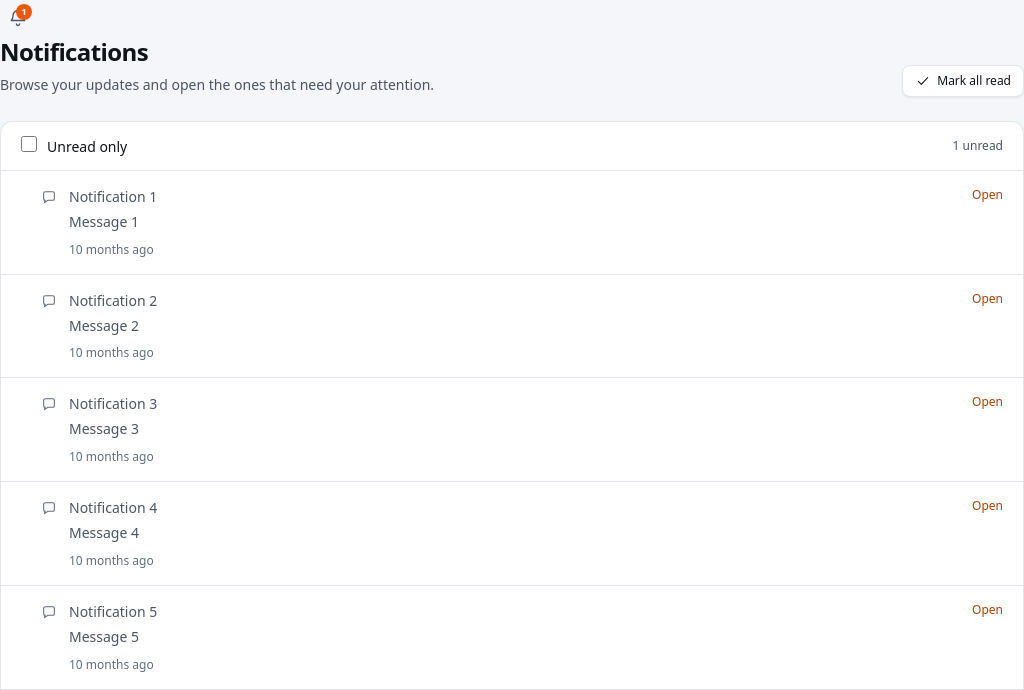
Test: notifications inbox › refreshes the unread filter and bell count after reading one item
Expected: the button named "Notifications, 1 unread" is shown, [0,0,36,36]
Click the checkbox labelled "Unread only". click: x=29, y=144
box: [21,136,37,152]
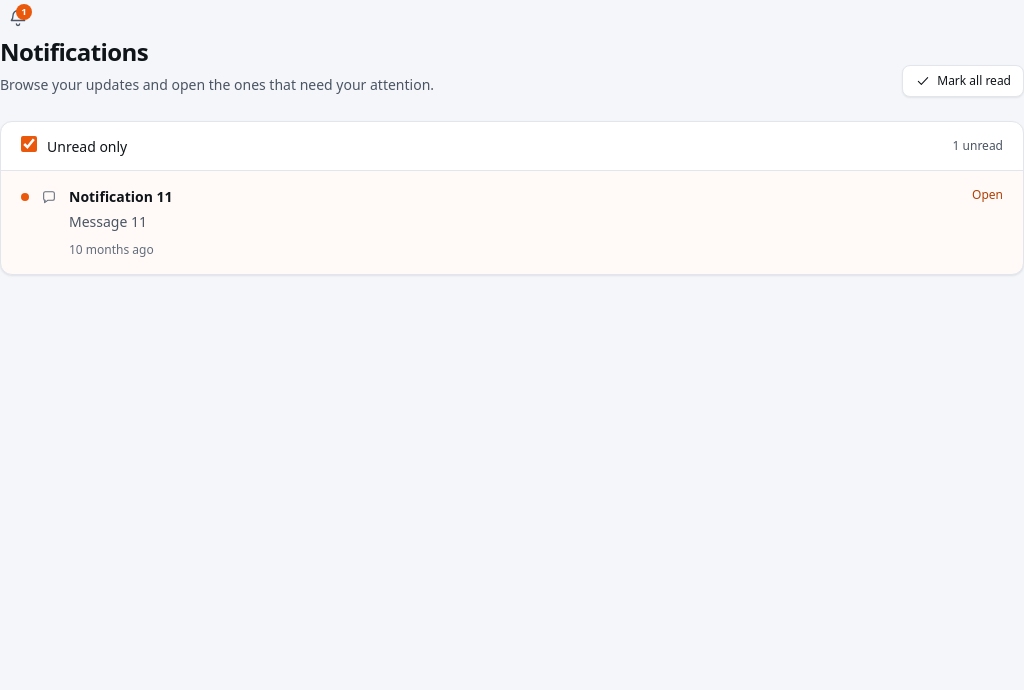
Click the button named "Notification 11 Open". click: x=121, y=196
box: [1,171,1023,274]
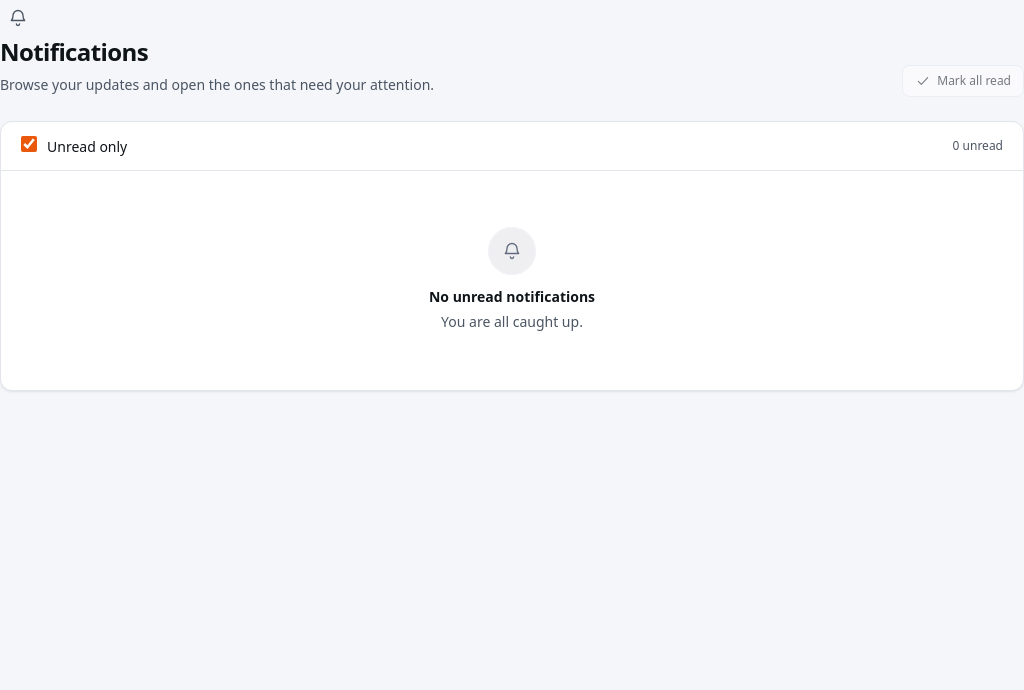
Expected: the button named "Notifications" is shown, [0,0,36,36]
Result: the text "No unread notifications" is shown at [429,287,595,307]
